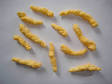kurkure: (9, 1, 104, 82)
